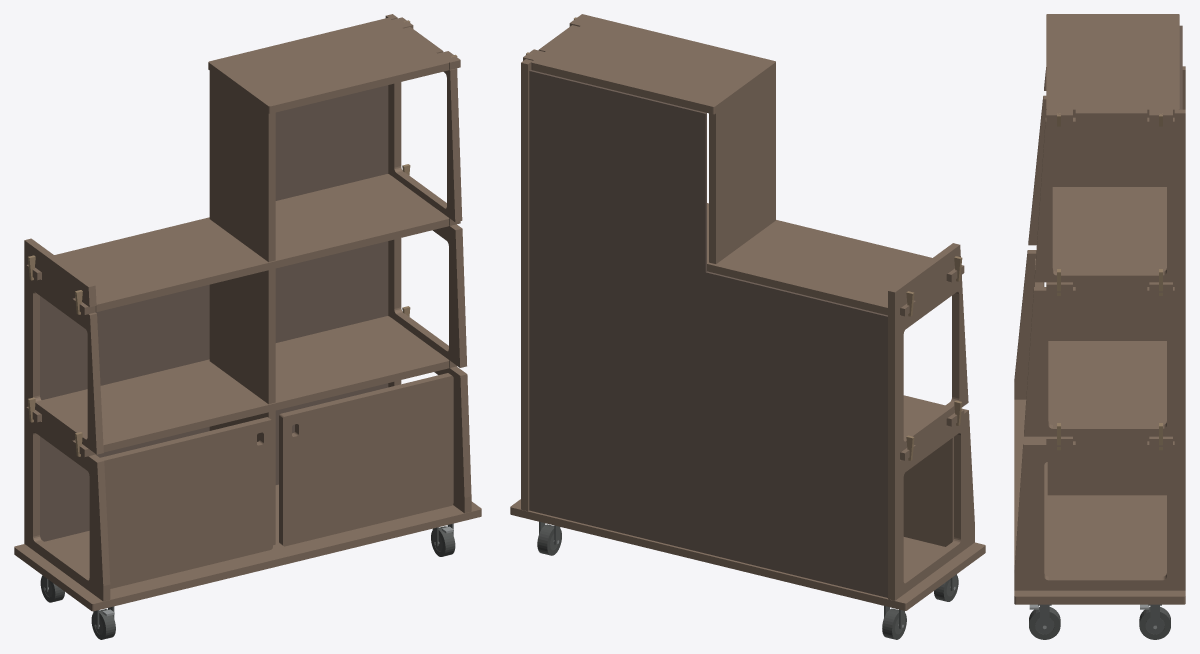
File: wedge.glb
3 renders of one model, left to right at view 1: azimuth 30°, elevation 25°; view 2: azimuth 150°, elevation 25°; view 3: azimuth 270°, elevation 25°, orthographic. The views are drawn at different scales.
Parts seen in each view (by area): view 1: back-low, door-low-right, door-low-left, shelf-2, shelf-1, frame-left, shelf-3, frame-right, back-high, partition-2, shelf-0, partition-1 (+1 smaller); view 2: back-low, back-high, frame-left, shelf-3, shelf-2, partition-2, shelf-0, door-low-left, frame-right, shelf-1; view 3: frame-right, shelf-0, shelf-3, shelf-1, shelf-2, partition-2, partition-0, partition-1, frame-left, caster-3-tire, caster-1-tire, back-high.
Part boxes in pixels (x1,y1,x2,y2): back-low: (40,241,388,541); door-low-right: (279,373,453,546); door-low-left: (100,417,272,588); shelf-2: (26,174,460,314); shelf-1: (26,316,457,456); frame-left: (24,238,110,601); shelf-3: (208,17,460,113); frame-right: (385,14,471,513); back-high: (275,85,388,200); partition-2: (209,71,275,262); shelf-0: (14,484,481,611); partition-1: (209,268,275,404); back-low: (529,229,887,597); back-high: (529,70,706,272); frame-left: (888,243,974,600); shelf-3: (523,14,775,114); shelf-2: (707,203,964,316); partition-2: (709,70,775,263); shelf-0: (510,499,985,610); door-low-left: (903,437,953,546); frame-right: (521,25,578,511); shelf-1: (900,395,964,460); frame-right: (1014,109,1185,590); shelf-0: (1014,399,1185,604); shelf-3: (1046,14,1179,123); shelf-1: (1046,341,1174,446); shelf-2: (1046,187,1174,292); partition-2: (1052,128,1166,186); partition-0: (1047,441,1174,495); partition-1: (1048,309,1166,340); frame-left: (1014,66,1185,399); caster-3-tire: (1139,607,1170,639); caster-1-tire: (1029,607,1060,639); back-high: (1179,25,1182,109).
Bounding box in the file's own units: 1 × 1.2 × 0.35.
